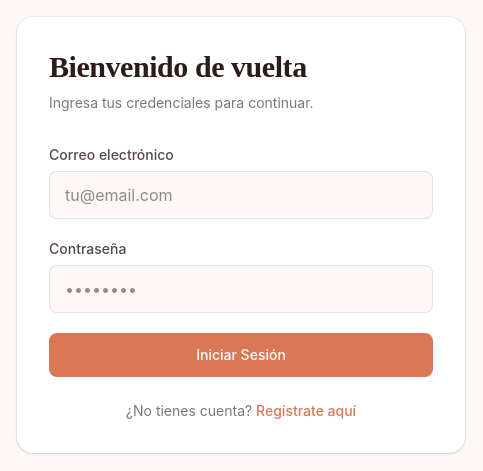
it: AuthPage › registers and switches back to login after success
This screenshot has width=483, height=471.
Click the button "Regístrate aquí": (306, 411) left=256, top=401, right=356, bottom=421
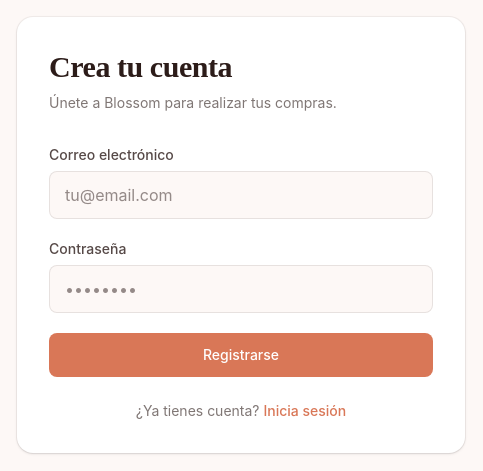
In the field with placeholder "tu@email.com": (241, 195) left=49, top=171, right=433, bottom=219, type "new@example.com"
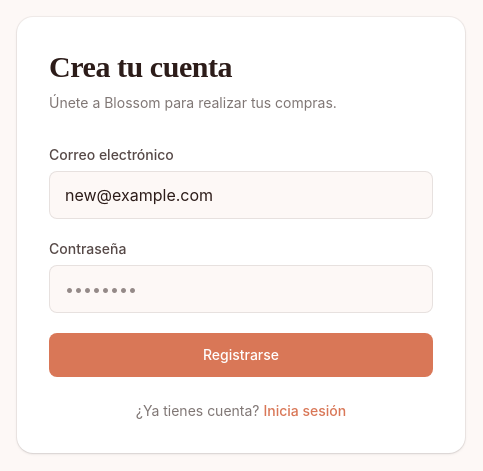
In the password field with placeholder "••••••••": (241, 289) left=49, top=265, right=433, bottom=313, type "secret1"
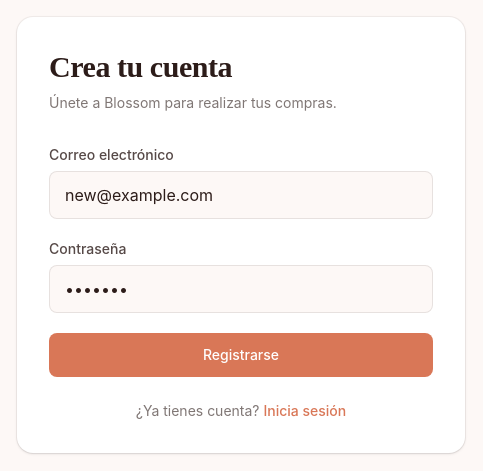
Click the button "Registrarse": (241, 355) left=49, top=333, right=433, bottom=377
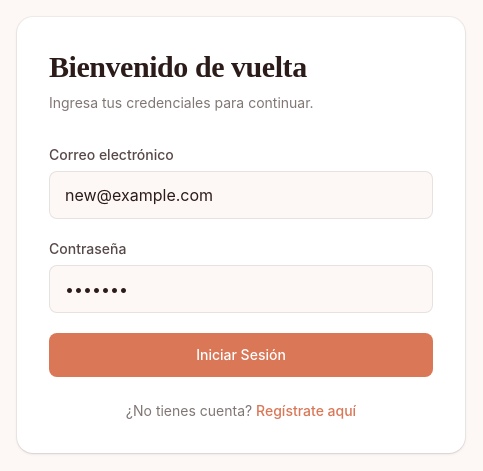
Result: the heading "Bienvenido de vuelta" is shown at left=49, top=50, right=307, bottom=83
